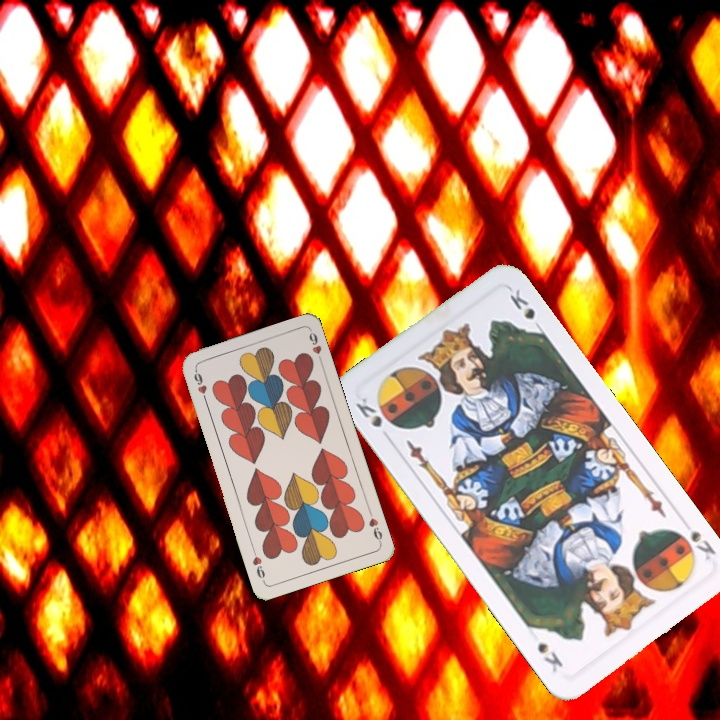H9: (365, 506, 385, 546), (190, 365, 210, 405)
SK: (351, 393, 394, 444), (686, 526, 719, 563)
